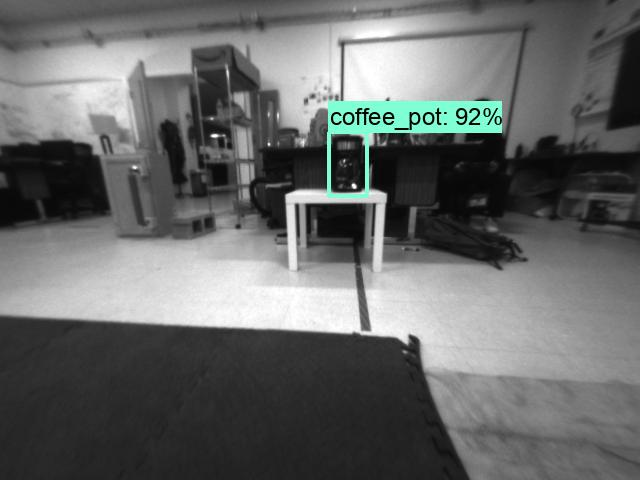coffee_pot: (325, 131, 370, 197)
